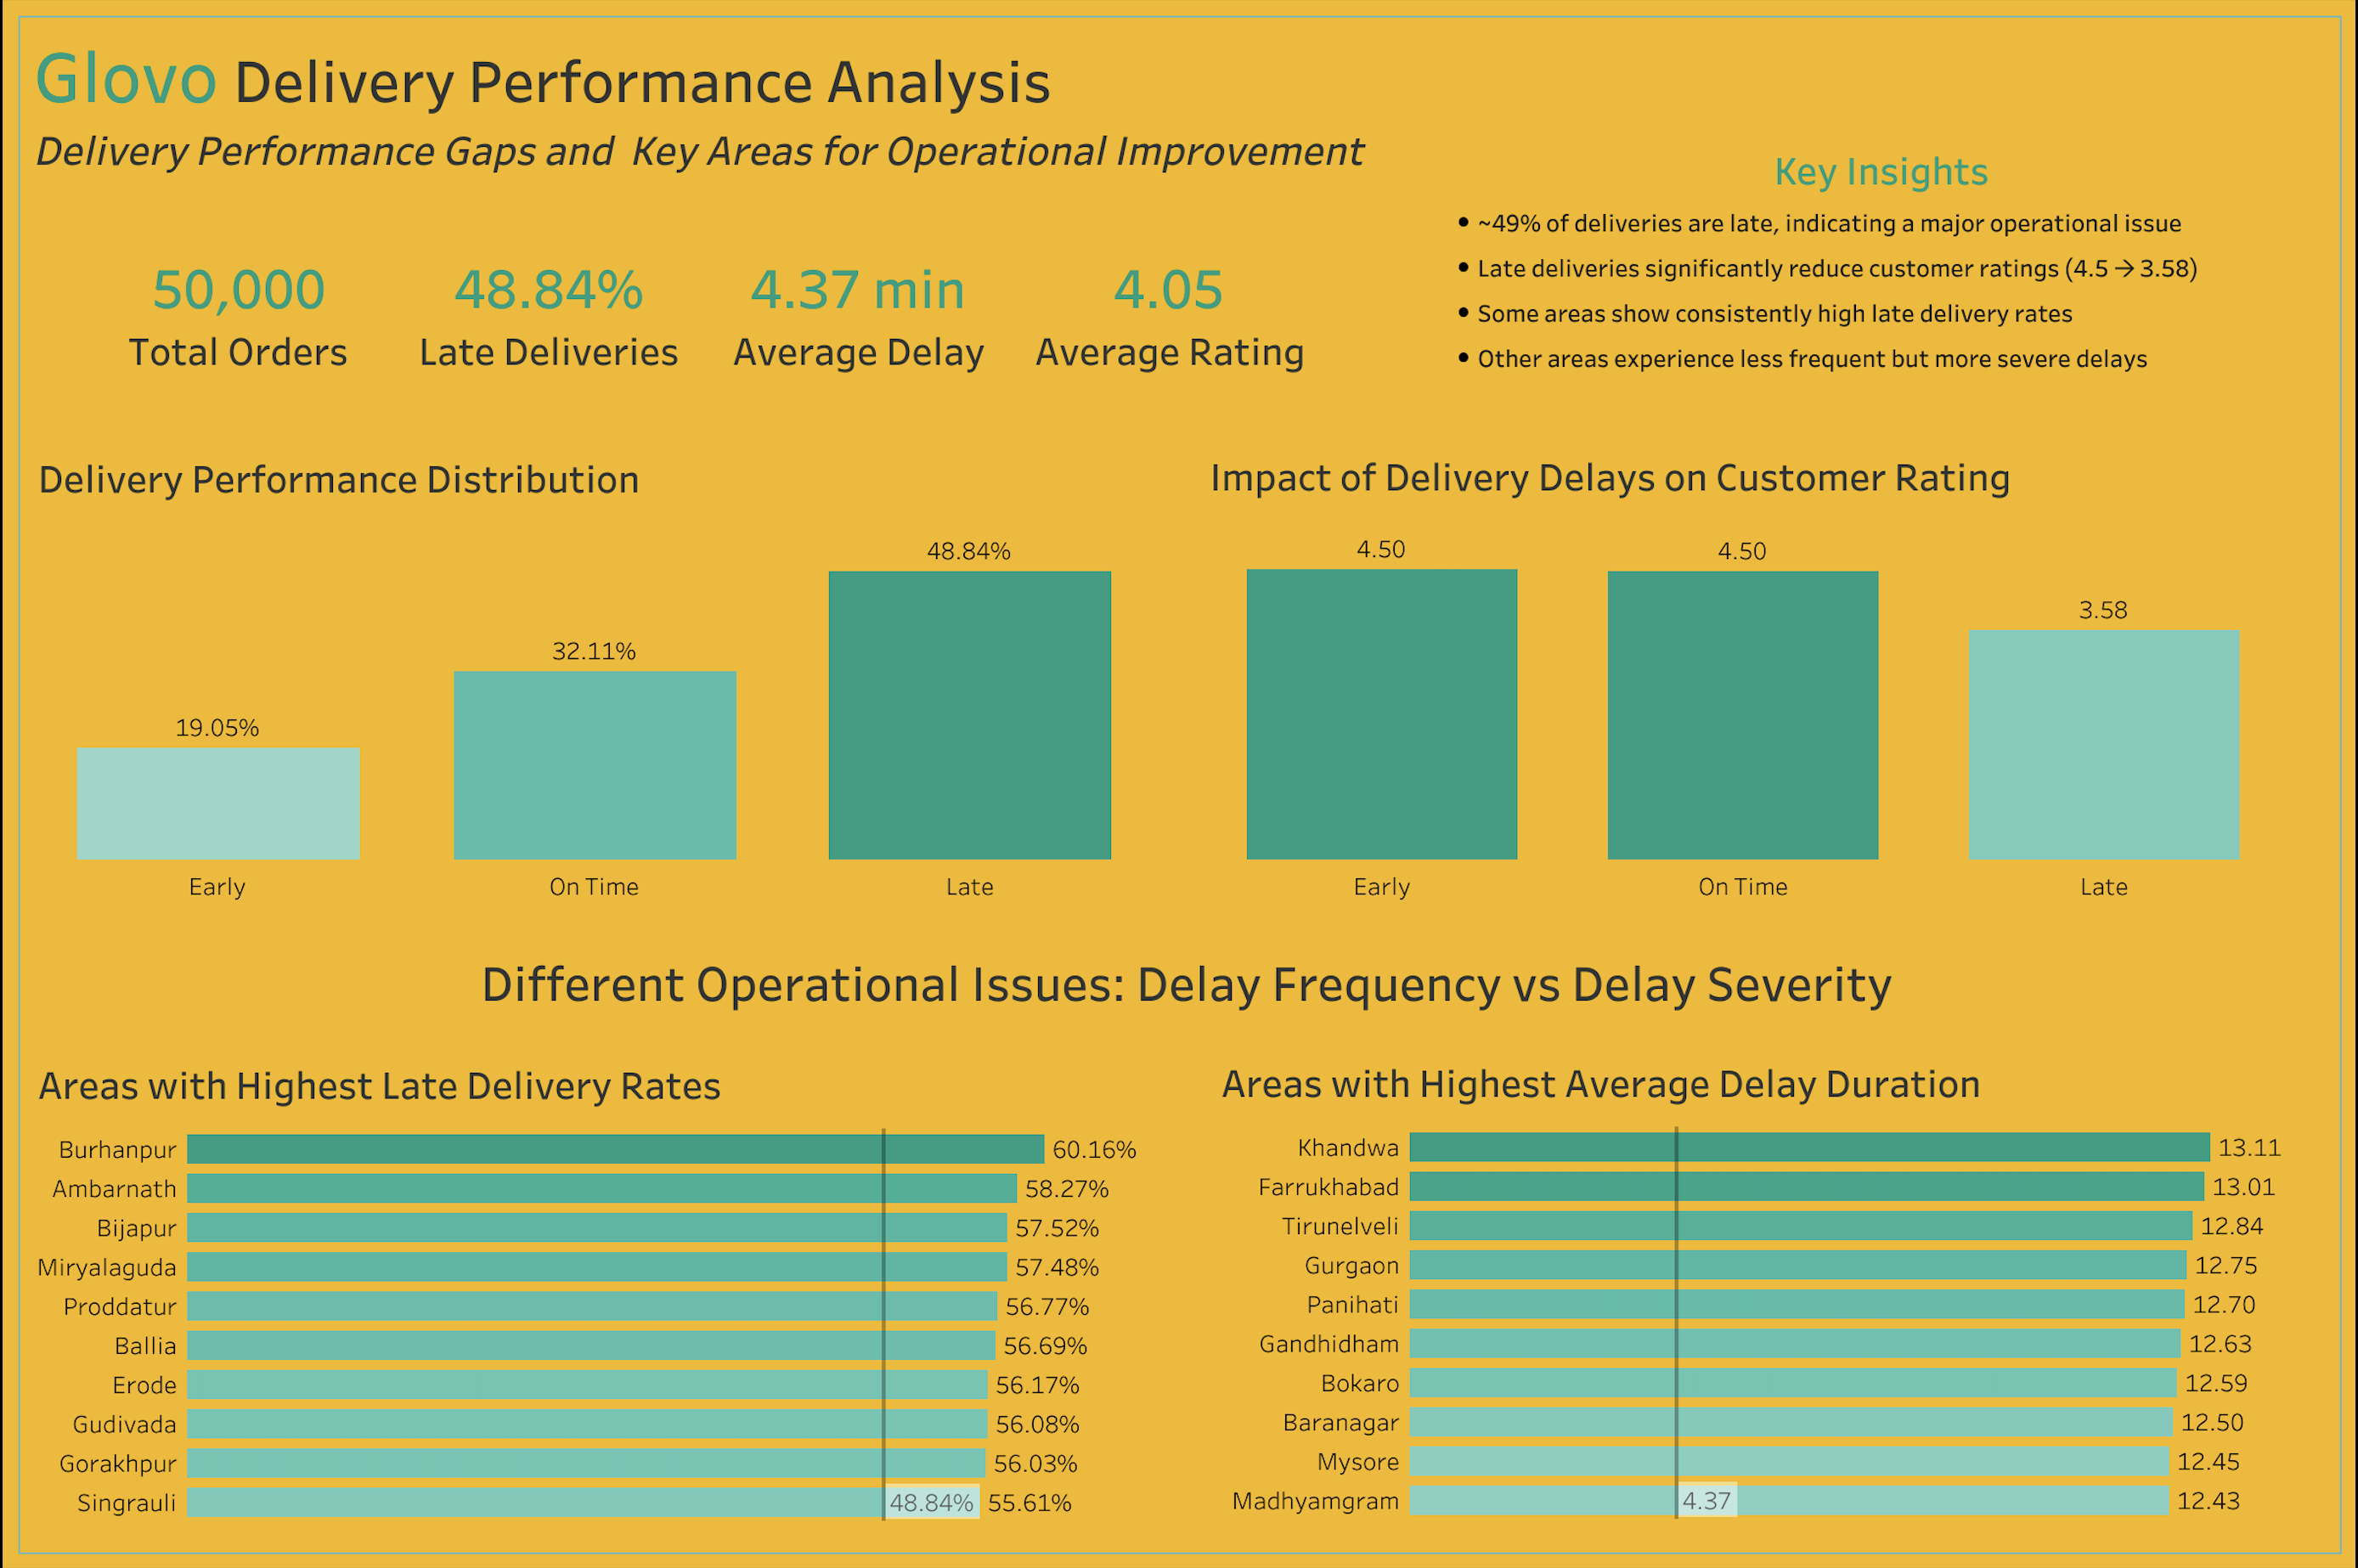

Layout of this report page (visuals, bound fields, positions):
{"tool":"tableau","page":{"name":"Glovo Delivery Performance Analysis","canvas":[1200,800],"ordinal":0},"visuals":[{"type":"title","box":[9,9,1182,84]},{"type":"text","box":[738,73,439,119]},{"type":"worksheet","title":"KPI - Total Orders","mark":"Automatic","box":[47,123,148,86]},{"type":"worksheet","title":"KPI - Late Delivery Rate","mark":"Automatic","box":[195,123,168,86]},{"type":"worksheet","title":"KPI - Avg Delay","mark":"Automatic","box":[363,123,148,86]},{"type":"worksheet","title":"KPI - Average Rating","mark":"Automatic","box":[511,123,168,86]},{"type":"worksheet","title":"Impact of Delays on Rating","mark":"Automatic","rows":["rating"],"cols":["delivery_performance"],"box":[611,223,552,237]},{"type":"worksheet","title":"Delivery Performance Distribution","mark":"Automatic","rows":["order_id"],"cols":["delivery_performance"],"box":[14,224,575,236]},{"type":"text","box":[241,472,731,56]},{"type":"worksheet","title":"Avg Delay by Area","mark":"Automatic","rows":["area"],"cols":["Calculation_0001082395795491"],"box":[617,532,569,253]},{"type":"worksheet","title":"Late Delivery % by Area","mark":"Automatic","rows":["area"],"cols":["Calculation_0014688623788046"],"box":[14,533,591,253]}]}

Visuals, with their boxes in screenshot pixels (x1, y1, x2, y2), scaled from the page's 1200x800 canvas onto the 2358x1568 screenshot:
title: rect(18, 18, 2340, 183)
text: rect(1450, 143, 2313, 376)
"KPI - Total Orders" worksheet: rect(93, 241, 383, 409)
"KPI - Late Delivery Rate" worksheet: rect(383, 241, 714, 409)
"KPI - Avg Delay" worksheet: rect(714, 241, 1004, 409)
"KPI - Average Rating" worksheet: rect(1004, 241, 1334, 409)
"Impact of Delays on Rating" worksheet: rect(1200, 437, 2285, 901)
"Delivery Performance Distribution" worksheet: rect(27, 439, 1158, 901)
text: rect(474, 925, 1910, 1035)
"Avg Delay by Area" worksheet: rect(1212, 1043, 2331, 1538)
"Late Delivery % by Area" worksheet: rect(27, 1045, 1189, 1541)
